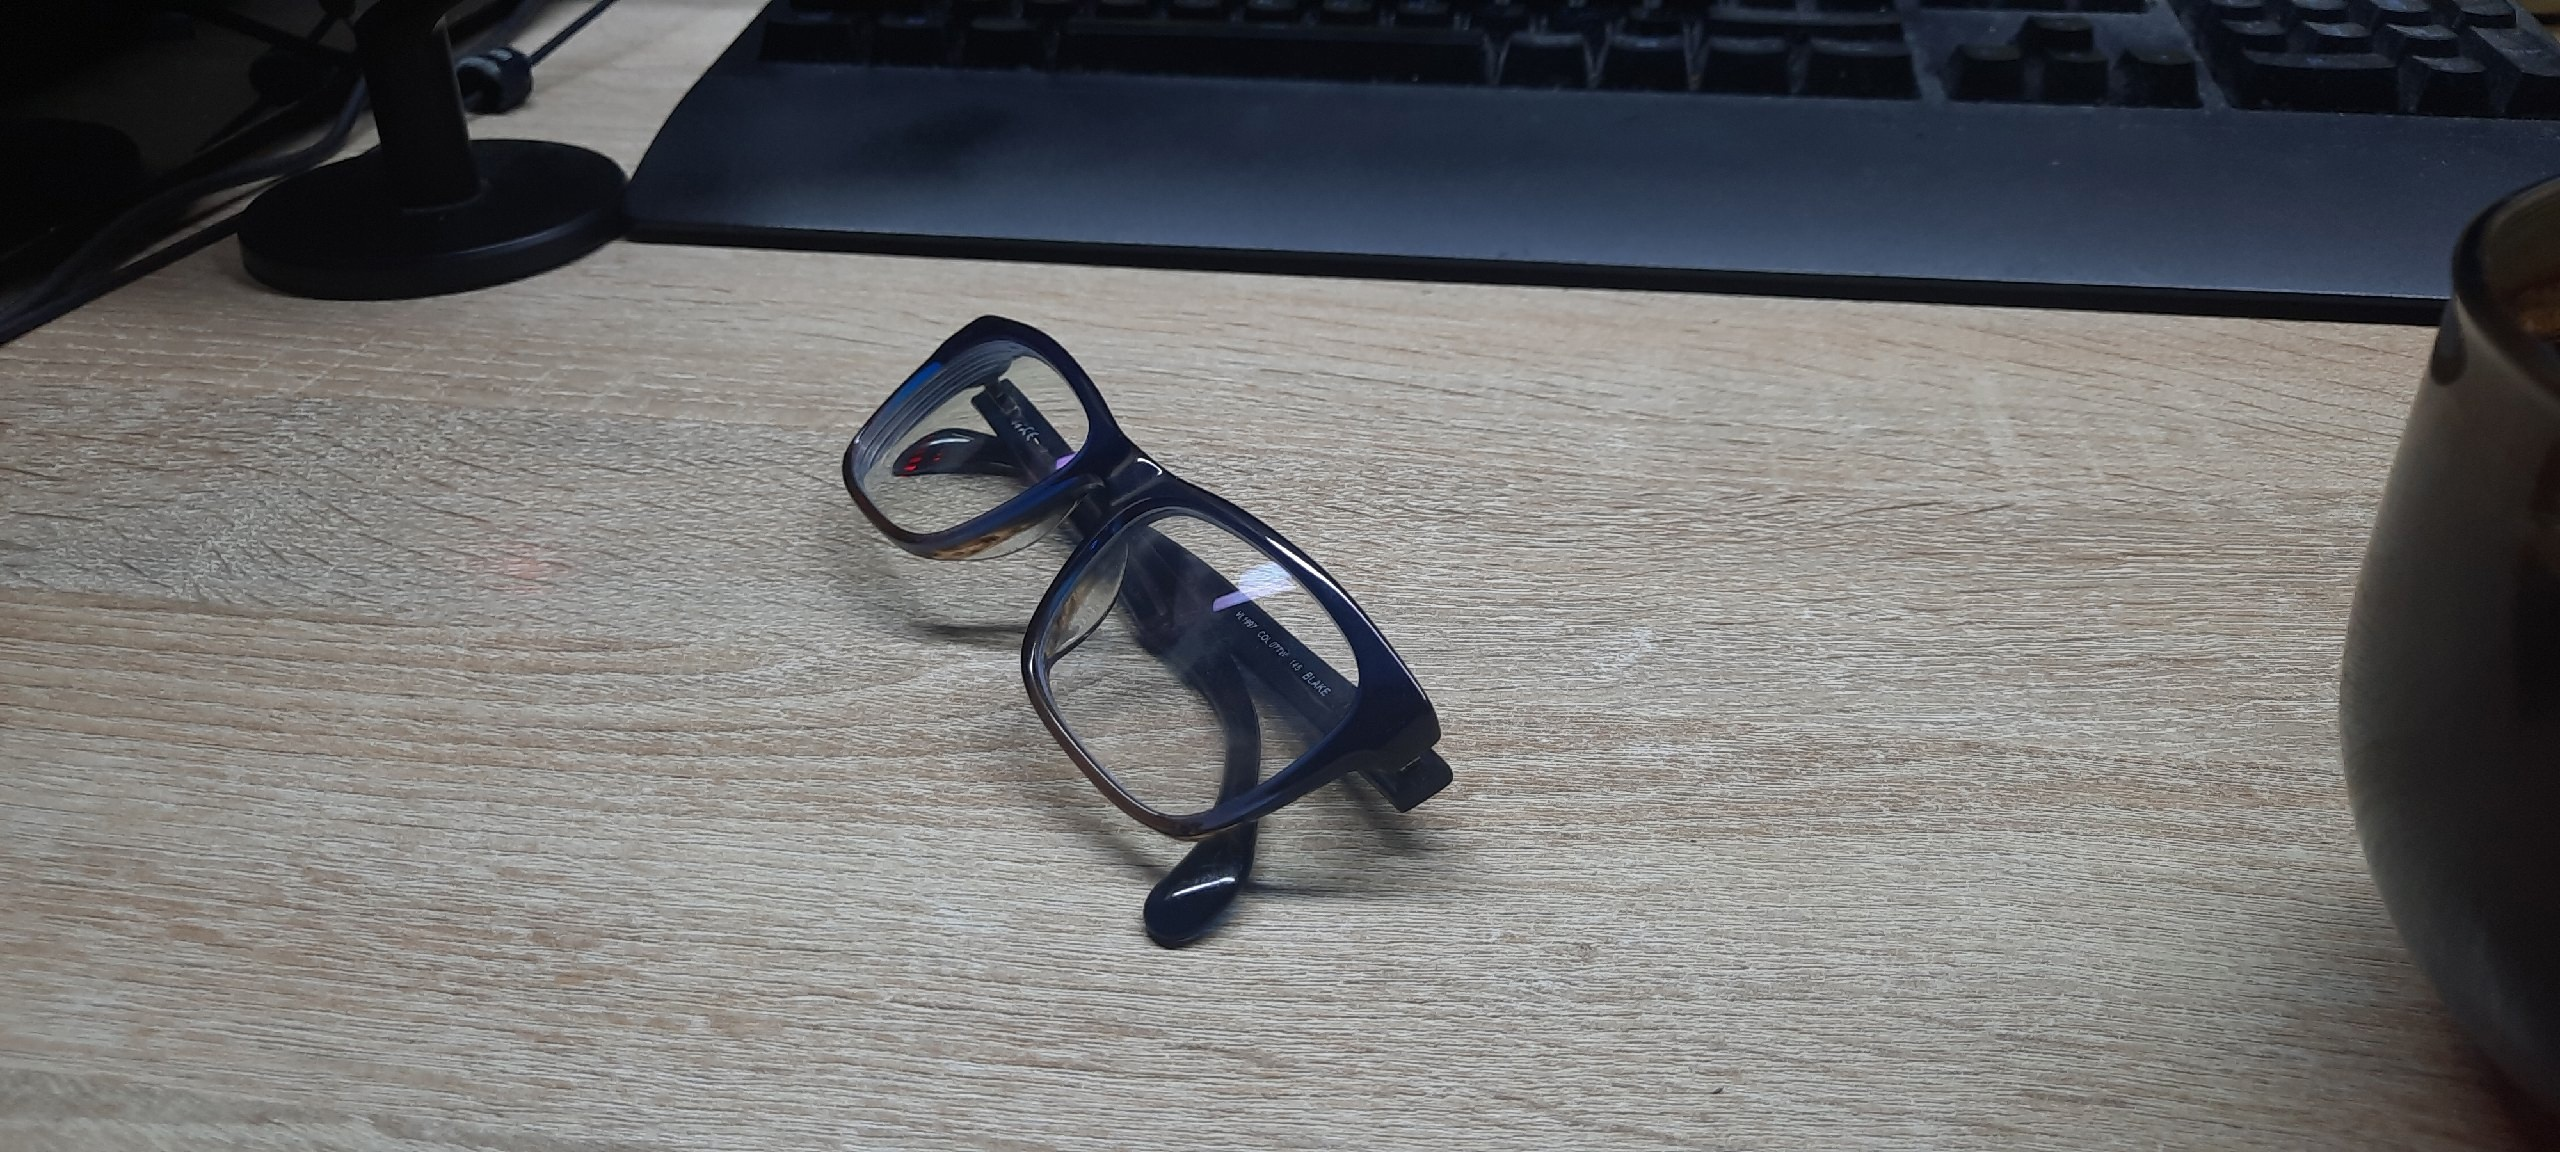glasses: (842, 318, 1450, 946)
